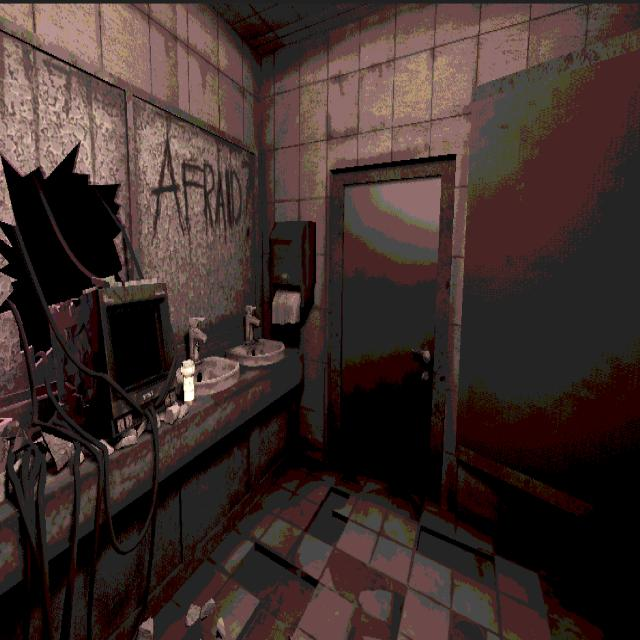door: (334, 176, 441, 514)
